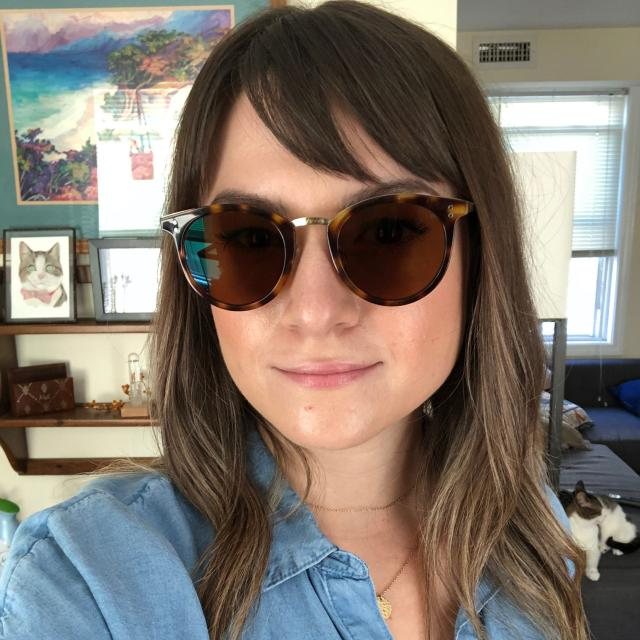2_gafas: (159, 191, 476, 312)
